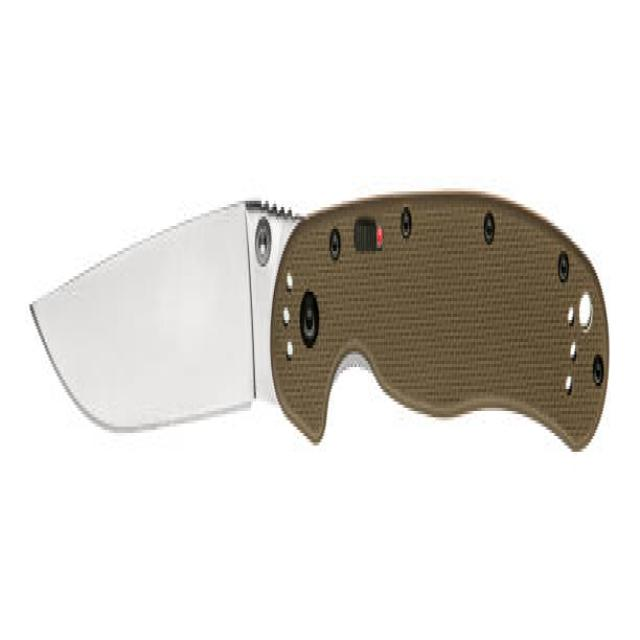knife: (23, 169, 611, 546)
